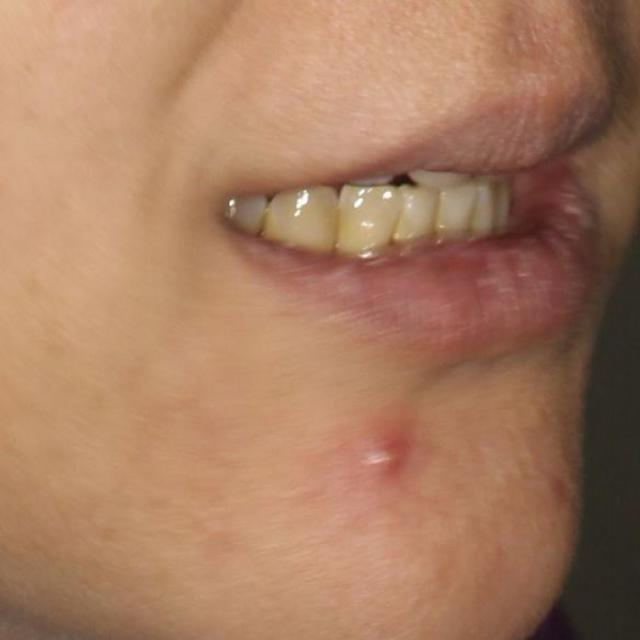blackheads: (357, 417, 418, 492)
